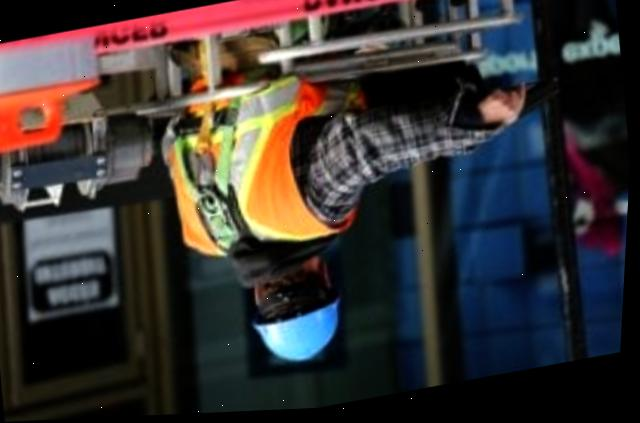helmet: (246, 297, 356, 377)
vest: (156, 64, 379, 269)
